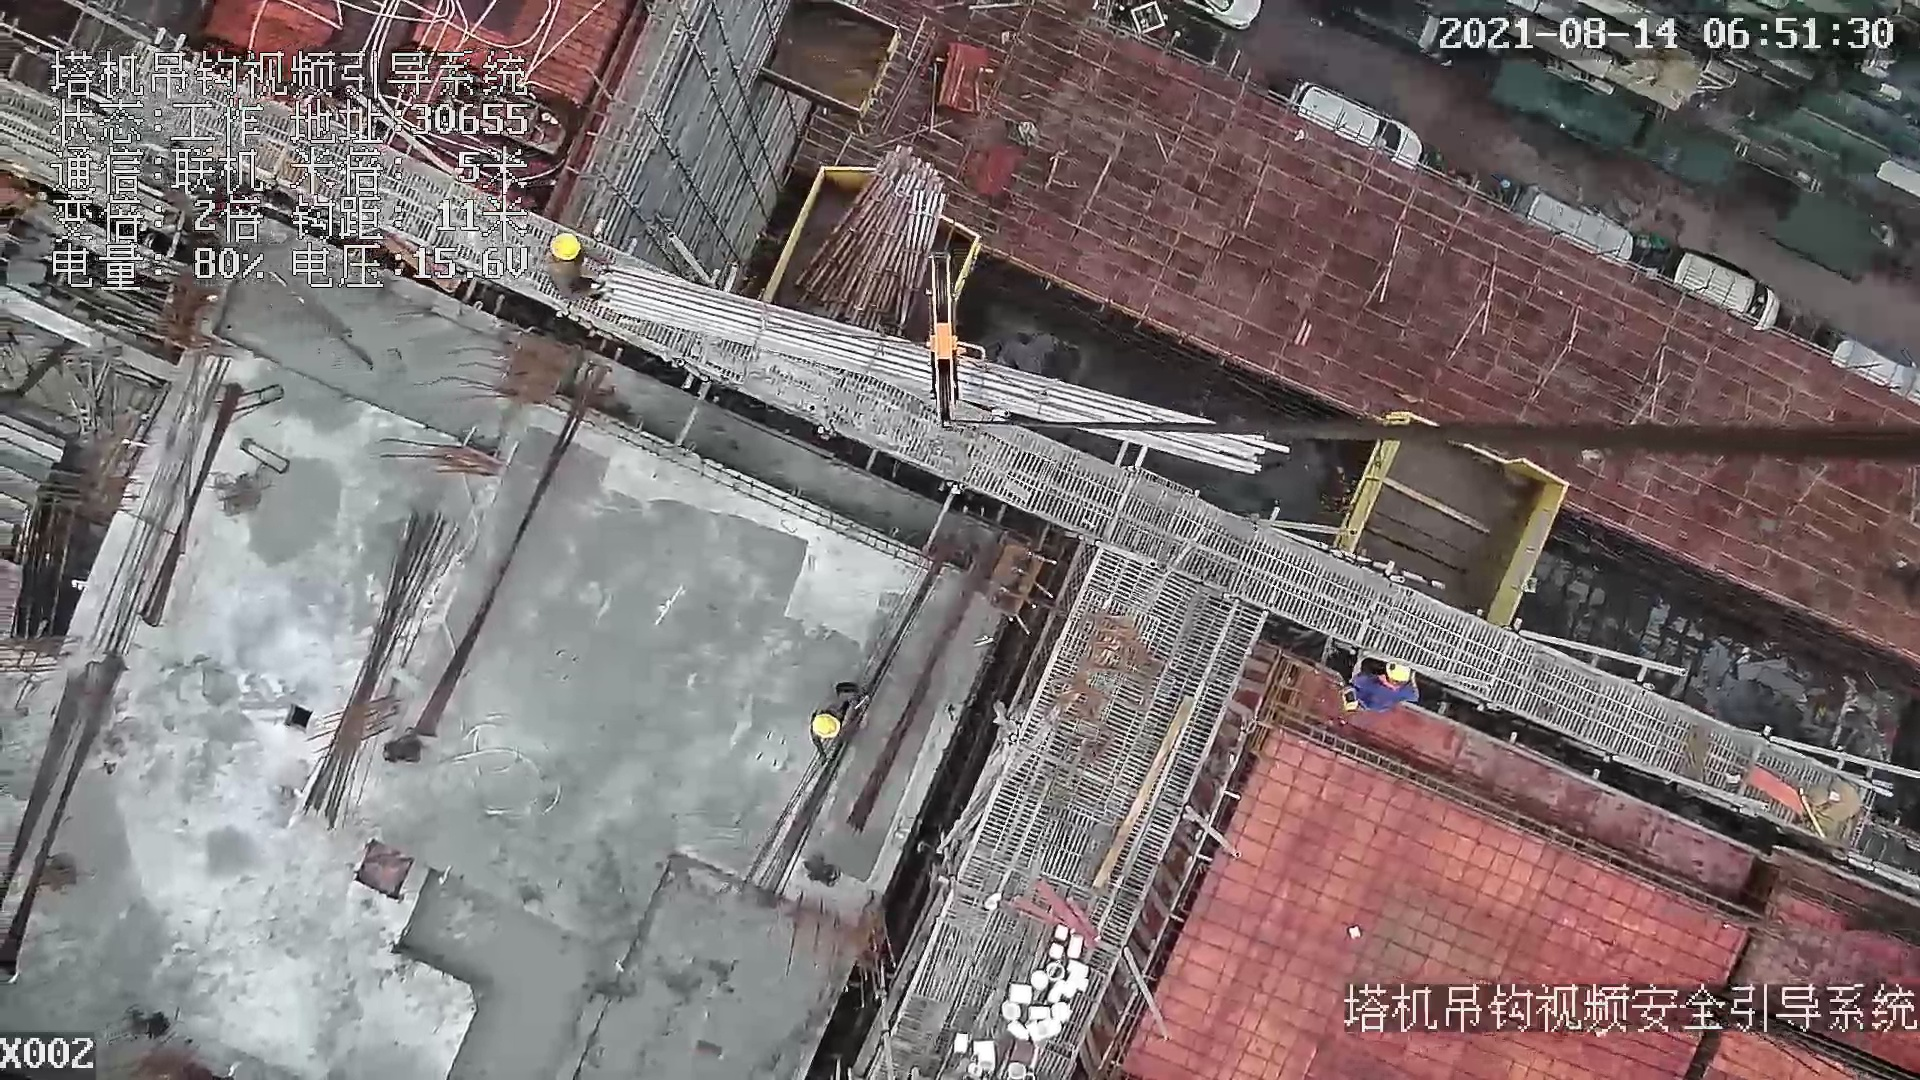helmet: (550, 234, 584, 266), (808, 713, 842, 742), (1382, 663, 1410, 682)
hook: (917, 256, 988, 426)
person: (531, 227, 619, 309), (800, 677, 870, 760), (1337, 654, 1428, 713)
rebar: (600, 268, 1289, 472), (297, 504, 469, 830)
scaffold: (793, 151, 944, 341)
